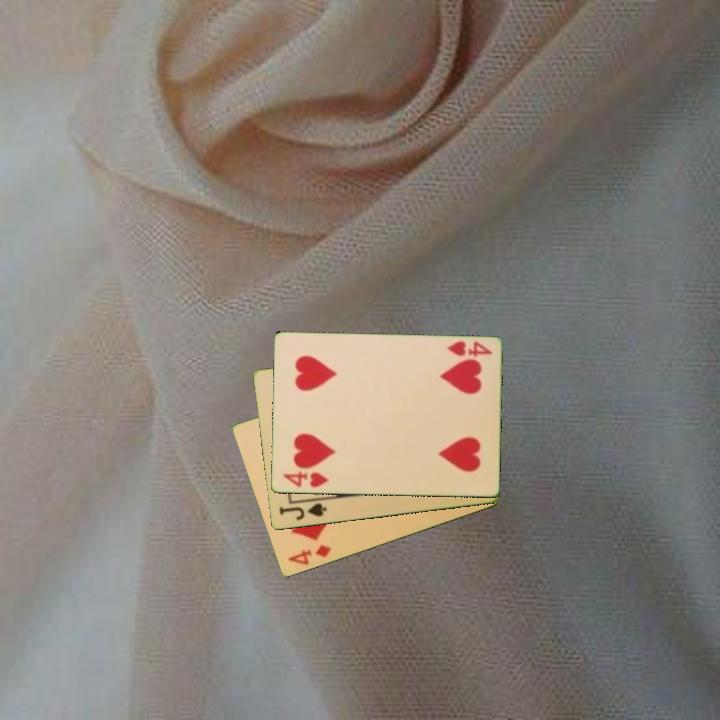4d: (284, 541, 334, 569)
4h: (444, 338, 495, 361), (279, 468, 331, 490)
Js: (276, 500, 329, 523)
